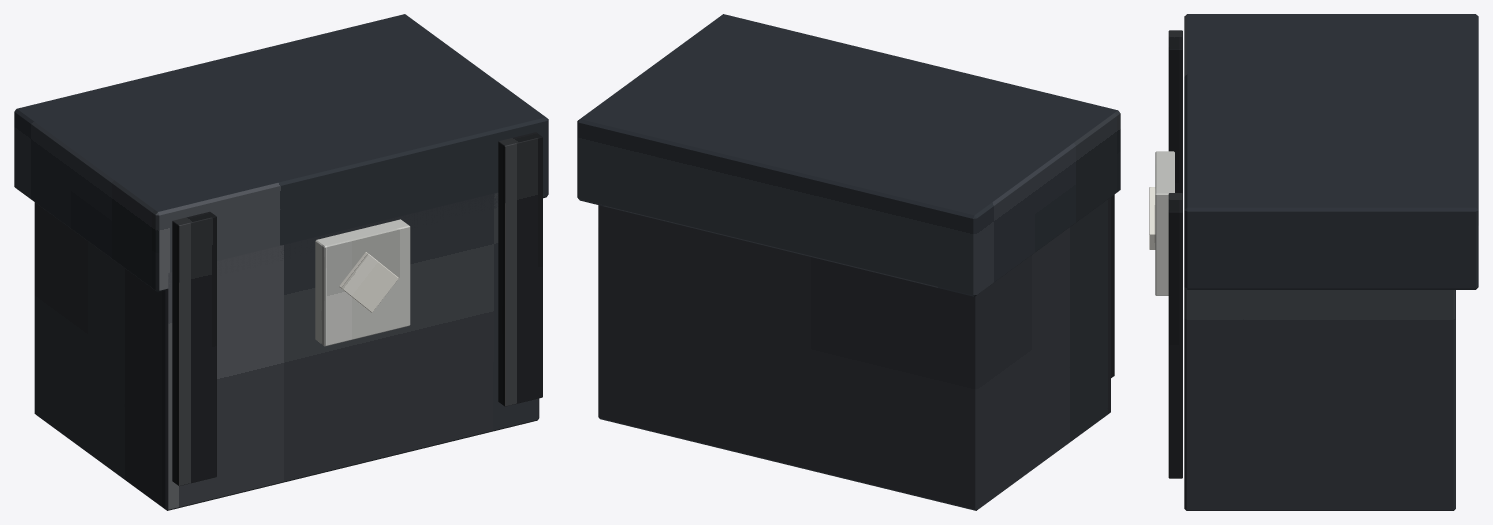
The model's file is toy_chest_charcoal.glb.
3 renders of one model, left to right at view 1: azimuth 30°, elevation 25°; view 2: azimuth 150°, elevation 25°; view 3: azimuth 270°, elevation 25°, orthographic. The views are drawn at different scales.
Parts seen in each view (by area): view 1: ChestBody, ChestLid, ChestBand_L, ChestBand_R, ChestLatch, ChestHeart; view 2: ChestBody, ChestLid, ChestBand_L; view 3: ChestLid, ChestBody, ChestBand_R, ChestLatch, ChestBand_L, ChestHeart.
Boxes of the visible parts, bbox=[...] form: ChestBody: bbox=[34, 192, 539, 510]; ChestLid: bbox=[14, 14, 548, 292]; ChestBand_L: bbox=[172, 211, 216, 486]; ChestBand_R: bbox=[498, 132, 542, 406]; ChestLatch: bbox=[315, 219, 410, 346]; ChestHeart: bbox=[339, 252, 398, 312]; ChestBody: bbox=[598, 197, 1110, 510]; ChestLid: bbox=[577, 14, 1120, 296]; ChestBand_L: bbox=[1111, 194, 1114, 377]; ChestLid: bbox=[1184, 14, 1478, 289]; ChestBody: bbox=[1184, 287, 1455, 510]; ChestBand_R: bbox=[1168, 193, 1182, 478]; ChestLatch: bbox=[1155, 151, 1174, 295]; ChestBand_L: bbox=[1168, 30, 1182, 193]; ChestHeart: bbox=[1149, 187, 1155, 249].
Size of the model in its own units: 0.82 by 0.6 by 0.582.
1 material, 1 textured.
